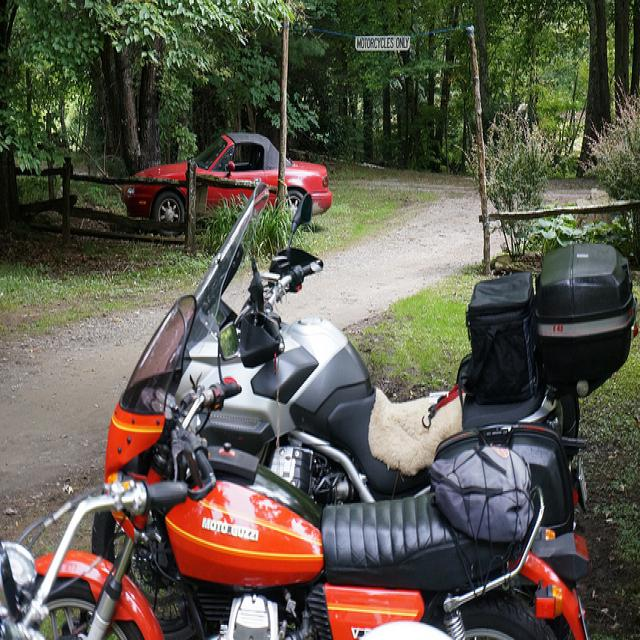motor: (16, 184, 544, 552), (210, 242, 640, 534)
